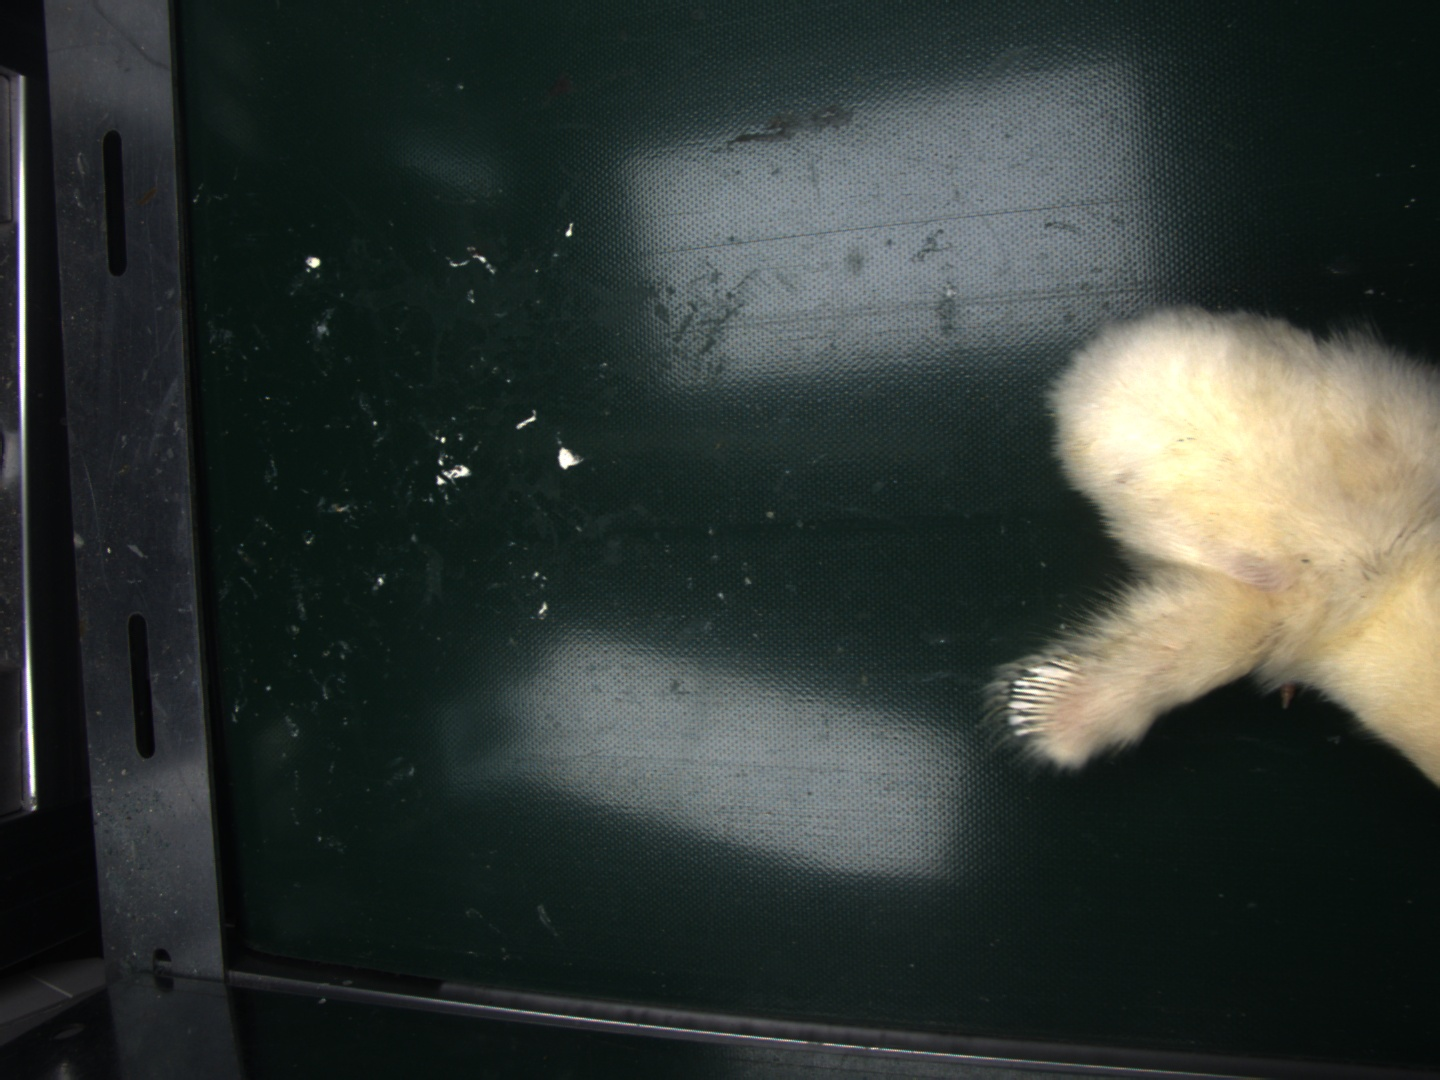male: (998, 660, 1079, 735)
